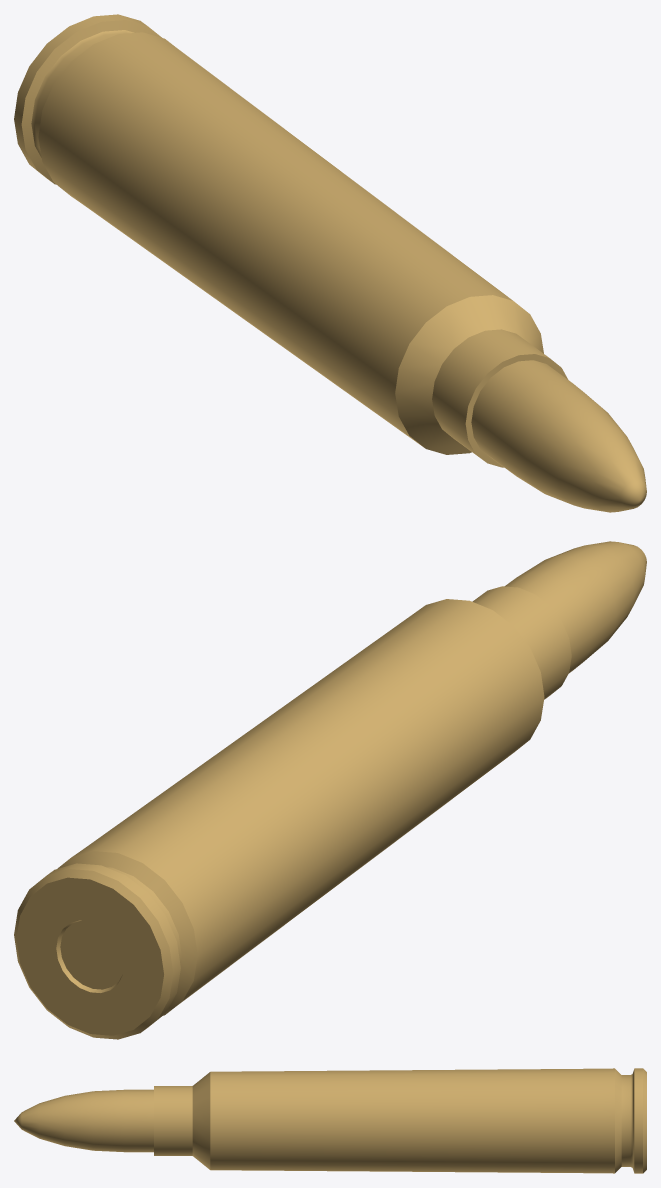
Rendered from SM_AR15_MagRound.fbx.
The picture shows the model from 3 angles, top to bottom: view 1: azimuth 30°, elevation 25°; view 2: azimuth 150°, elevation 25°; view 3: azimuth 270°, elevation 25°; orthographic projection. The views are drawn at different scales.
Parts seen in each view (by area): view 1: SM_AR15_MagRound; view 2: SM_AR15_MagRound; view 3: SM_AR15_MagRound.
Boxes of the visible parts, x1=… form: SM_AR15_MagRound: x1=14, y1=14, x2=646, y2=512; SM_AR15_MagRound: x1=14, y1=541, x2=646, y2=1039; SM_AR15_MagRound: x1=14, y1=1068, x2=646, y2=1173.
Size of the model in its own units: 0.96 by 5.74 by 0.96.
